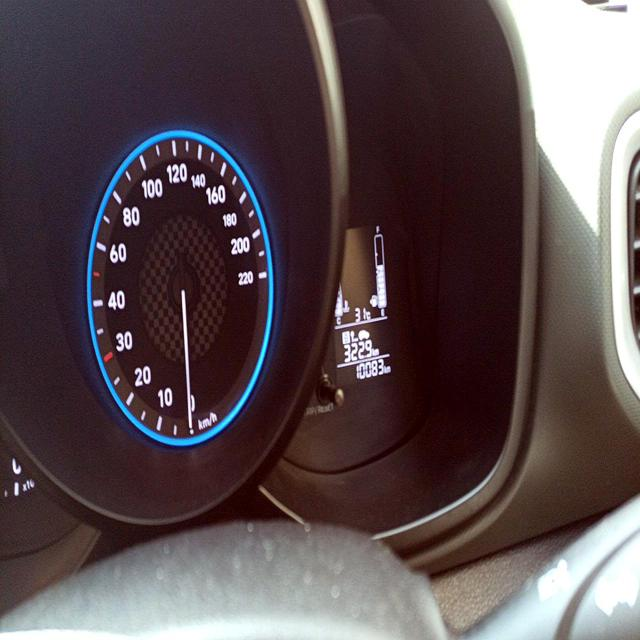odometer: (352, 359, 389, 384)
